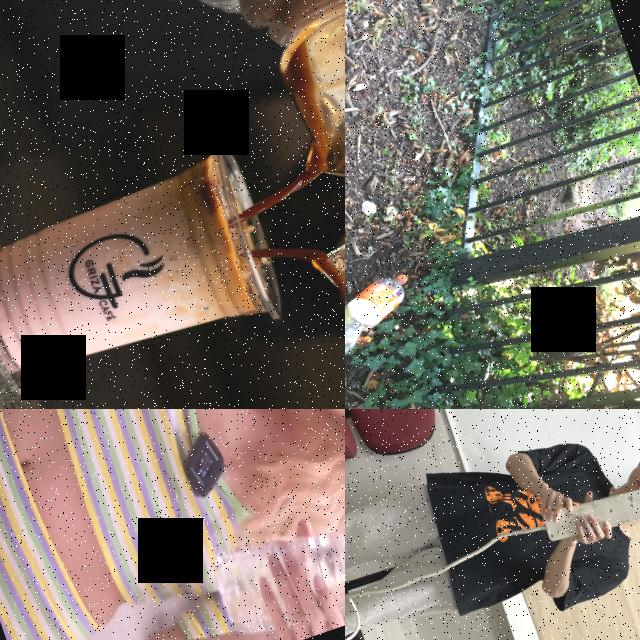bottle: (203, 494, 345, 640), (345, 268, 426, 370)
cup: (0, 131, 295, 409)
